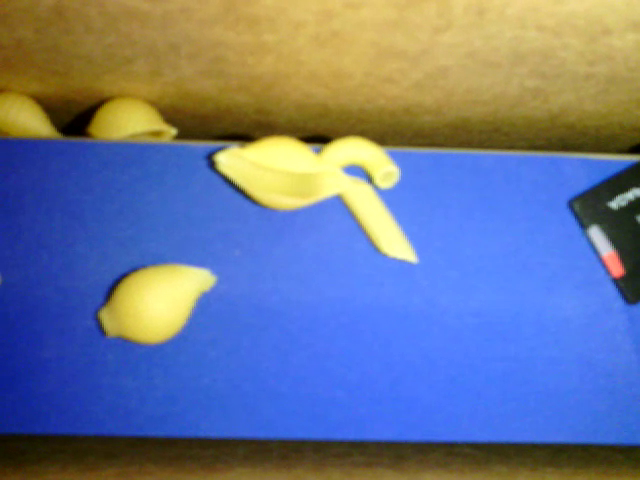elbow: (317, 136, 399, 187)
penne: (330, 172, 421, 265)
shell: (208, 130, 352, 215), (96, 264, 216, 345), (86, 95, 181, 141), (1, 88, 71, 137)
